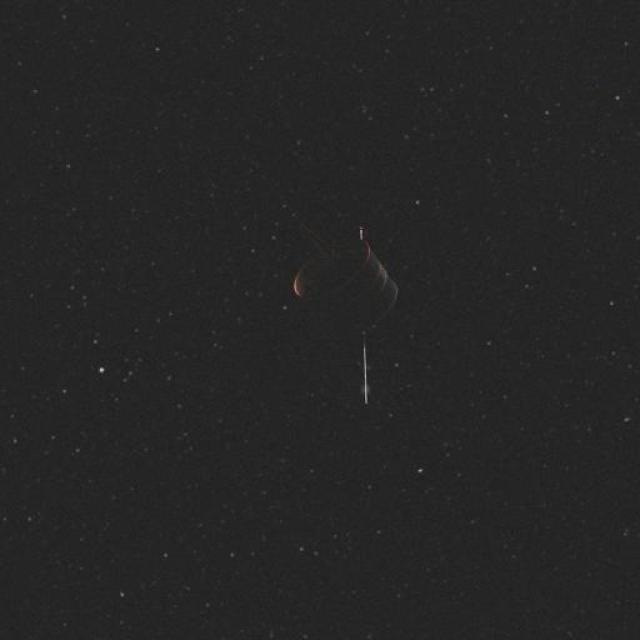double_start: (282, 220, 429, 362)
